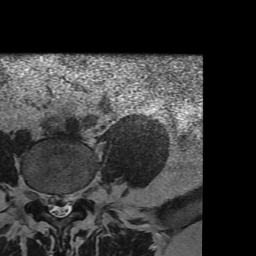CCS_normal: (55, 182, 64, 225)
LFS_normal: (73, 176, 83, 209)
LLS_normal: (64, 181, 73, 220)
RFS_normal: (36, 178, 45, 211)
RLS_normal: (45, 181, 55, 220)
